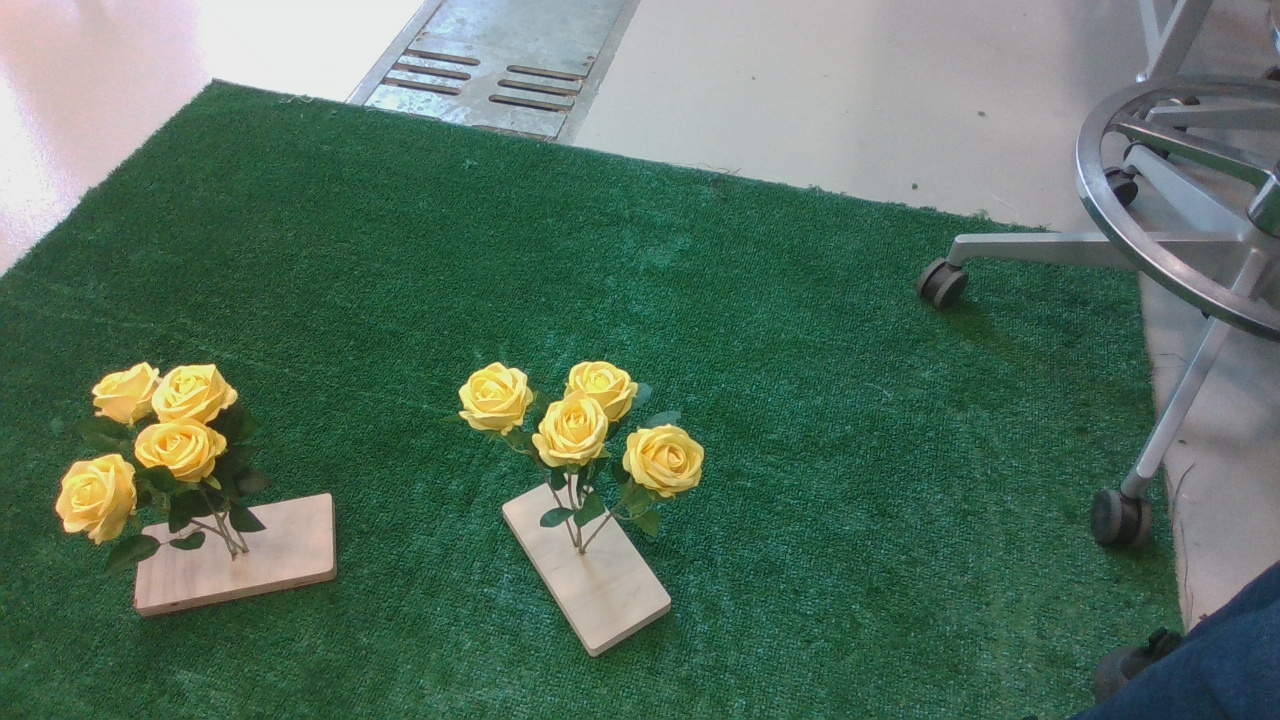rose: (451, 352, 714, 561), (46, 361, 286, 574)
